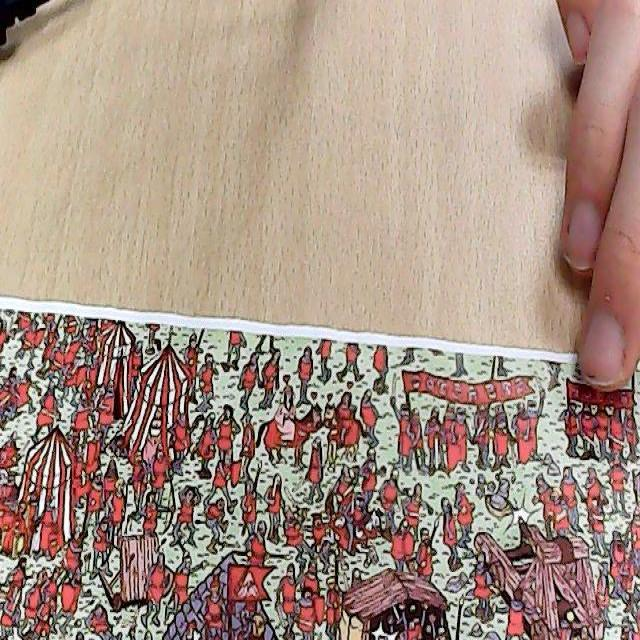waldo: (404, 549, 419, 574)
